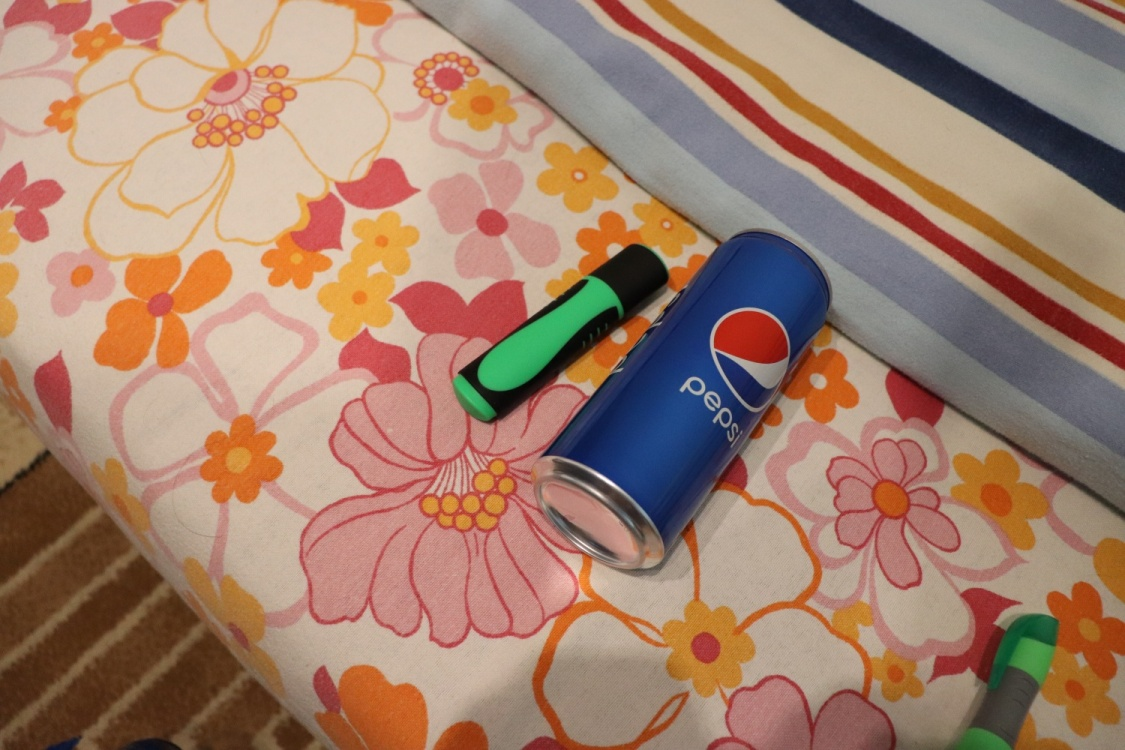pepsi: (526, 222, 852, 588)
